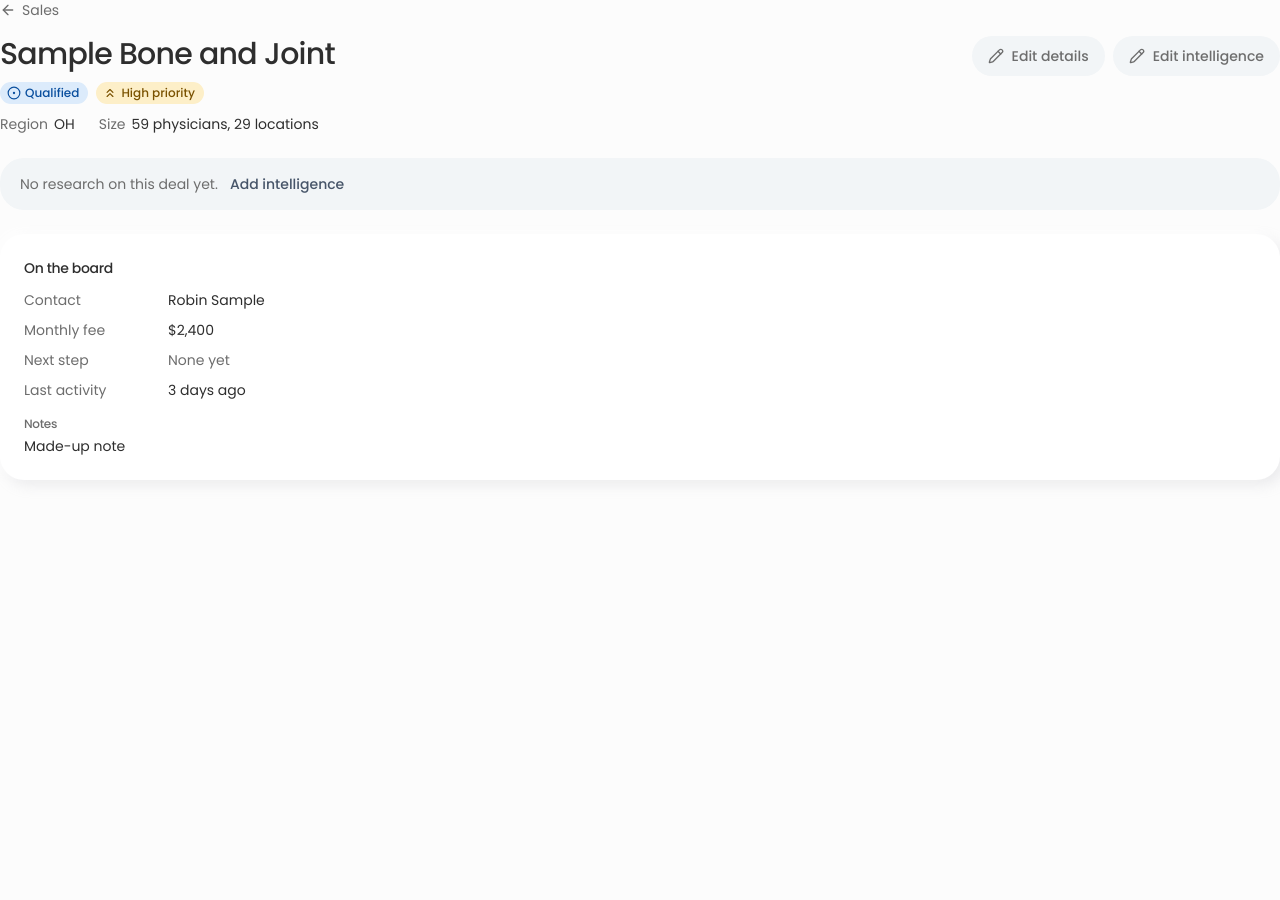
Test: a US deal's page › a deal with no research says so in one line, and offers to add it
This screenshot has width=1280, height=900.
Expected: the text "No research on this deal yet." is shown, [20, 174, 218, 194]
Expected: the element "Summary" is not shown
What coordinates should you click on to do the following:
click the button "Add intelligence"
I would click on:
 (287, 184)
Its box is [230, 174, 344, 194].
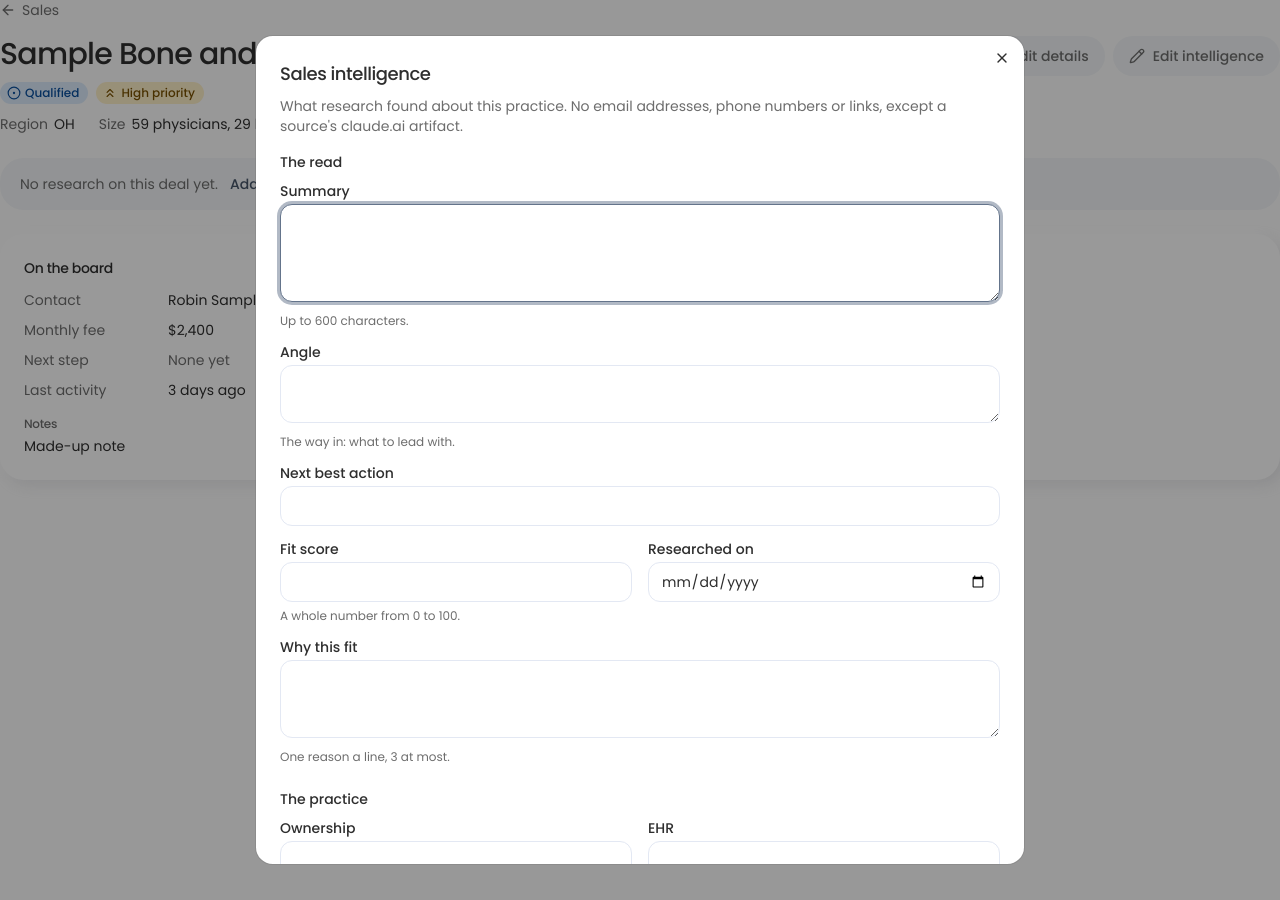
Expected: the dialog "Sales intelligence" is shown, [256, 36, 1024, 864]
